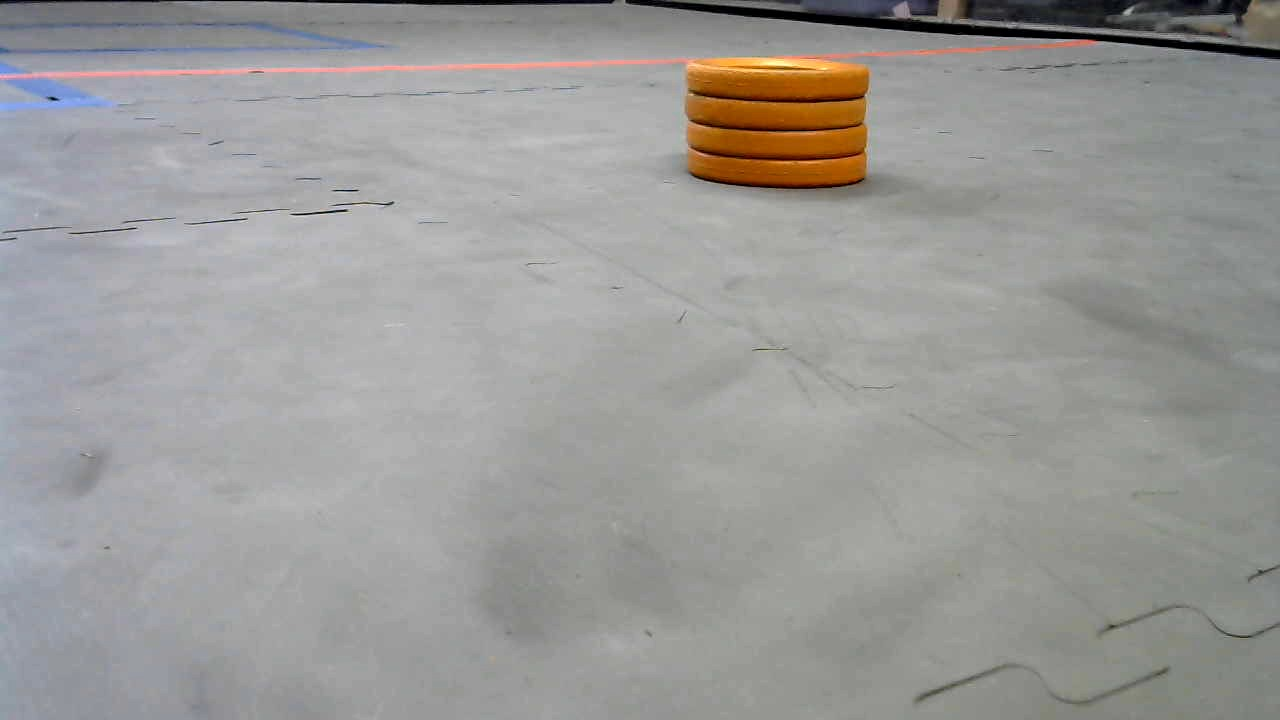FourStack: (685, 58, 869, 186)
